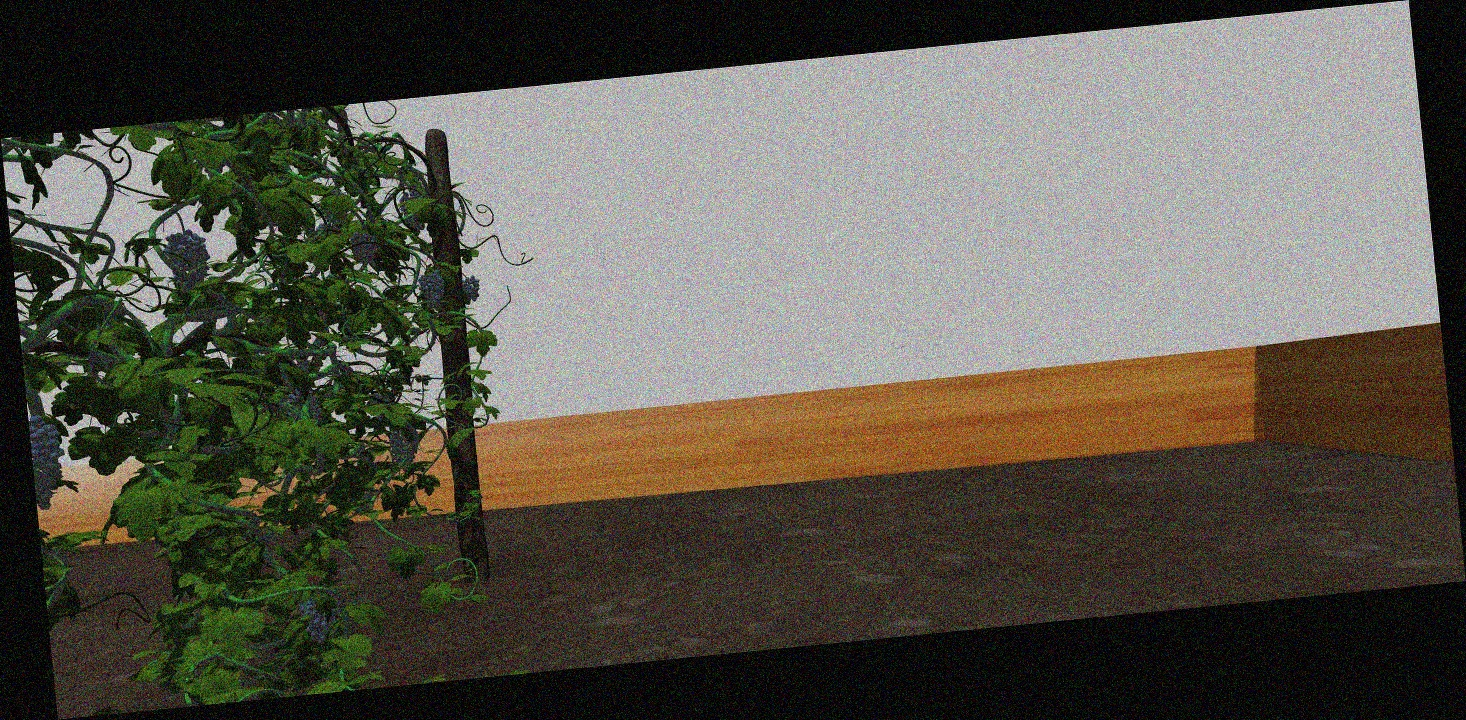grape: (165, 229, 210, 293), (35, 412, 64, 510), (301, 594, 342, 644), (389, 427, 419, 468), (418, 265, 445, 309), (350, 231, 378, 264), (463, 273, 481, 306)
